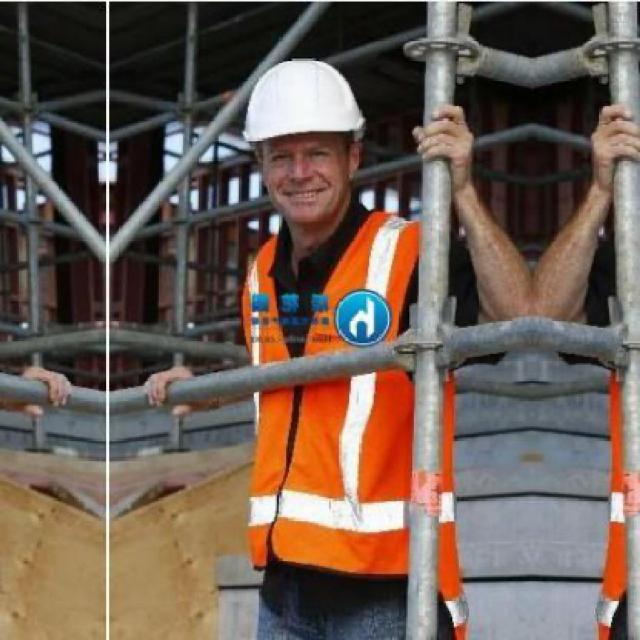helmet: (232, 42, 383, 240)
